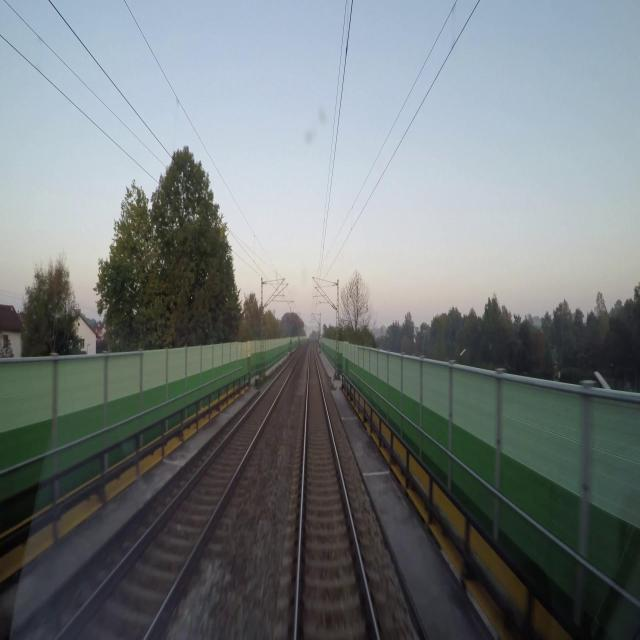rail-track: (60, 356, 297, 639), (298, 348, 375, 639)
